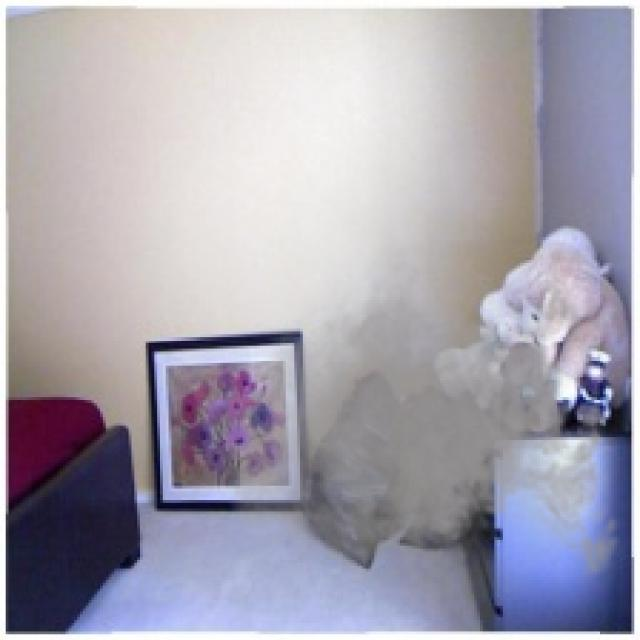Smoke: (223, 222, 632, 638)
